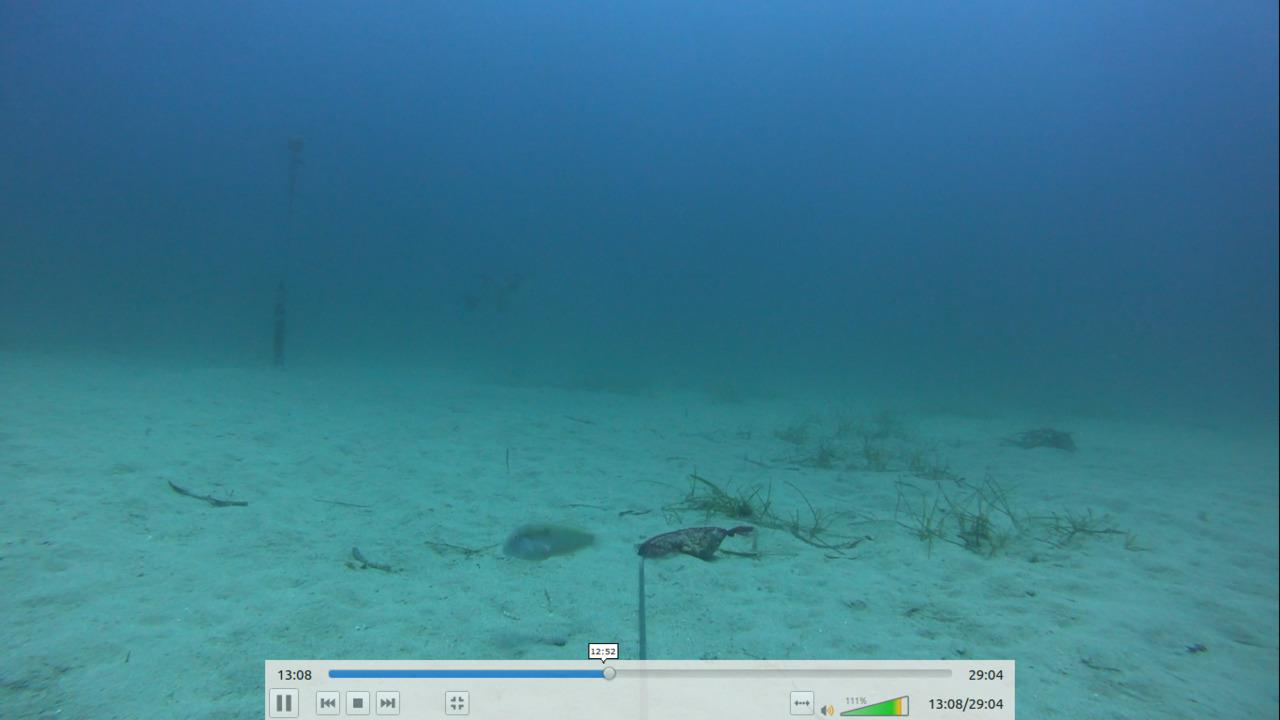raor: (502, 518, 603, 562)
